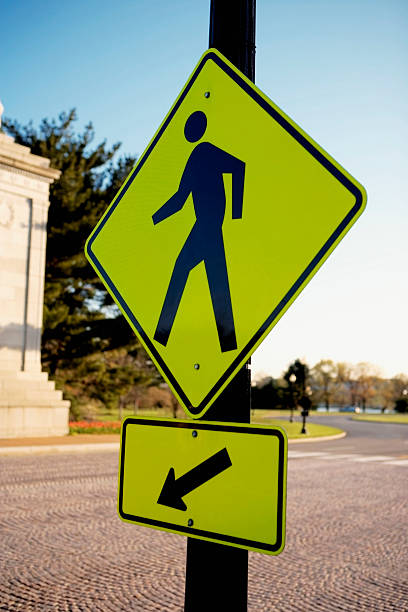pedestrian: (86, 56, 348, 380)
